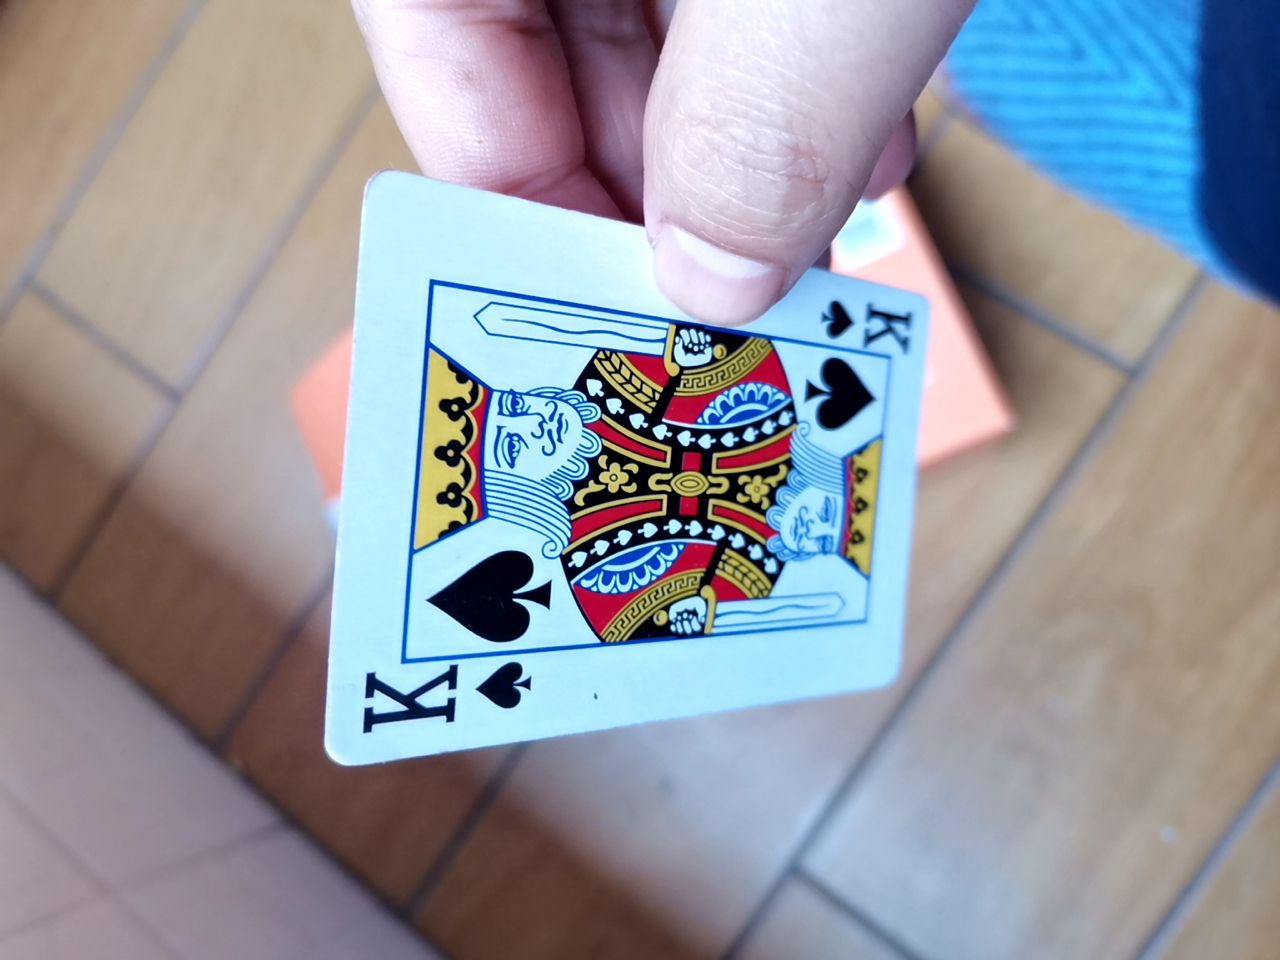ht k: (312, 167, 952, 788)
